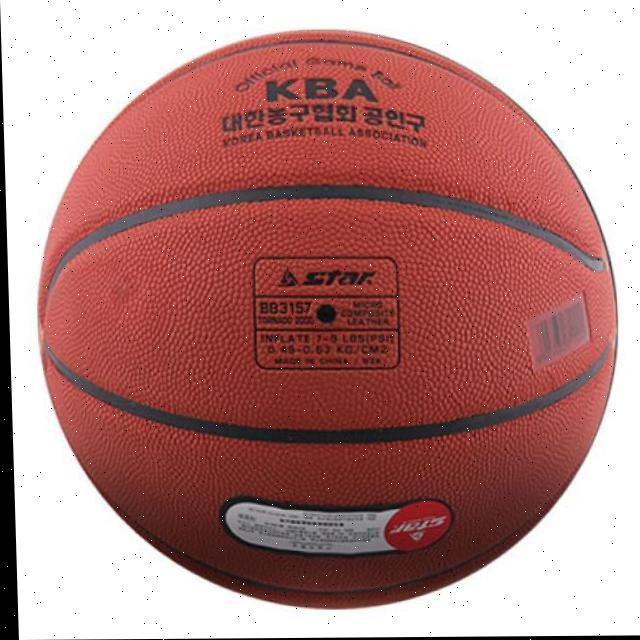Basketball: (28, 26, 625, 610)
